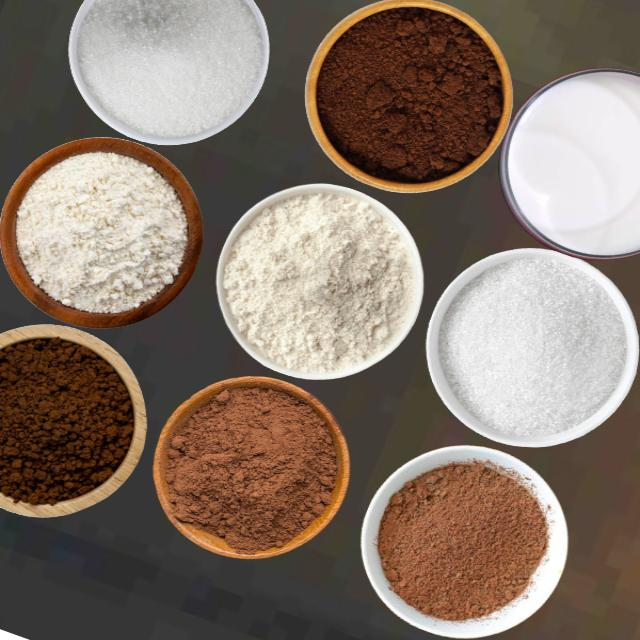Cocoa: (154, 375, 350, 559), (377, 458, 549, 621)
Coffee: (313, 0, 505, 185), (0, 335, 134, 506)
Flour: (221, 190, 413, 373), (14, 150, 187, 314)
Sugar: (438, 253, 627, 438), (76, 0, 264, 138)
